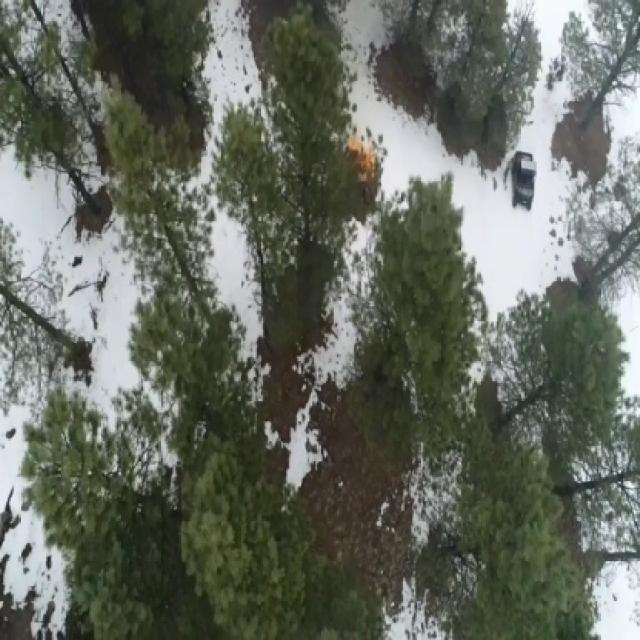Fire: (350, 139, 366, 152), (366, 156, 375, 171)
